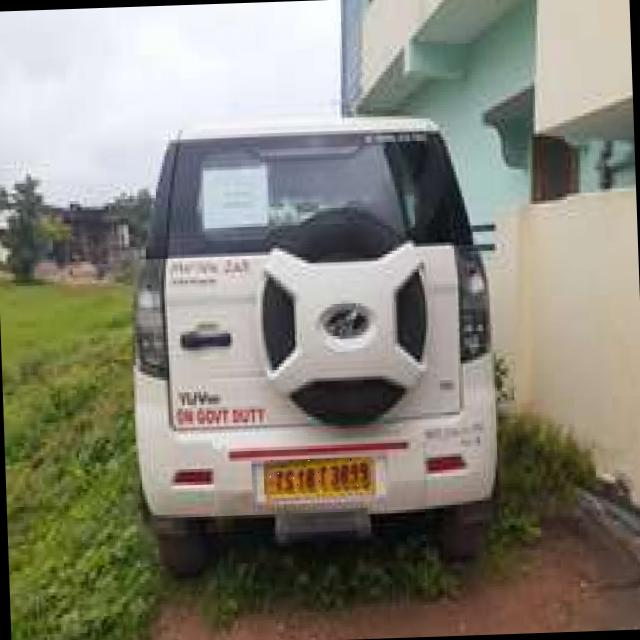Plate: (264, 457, 372, 495)
